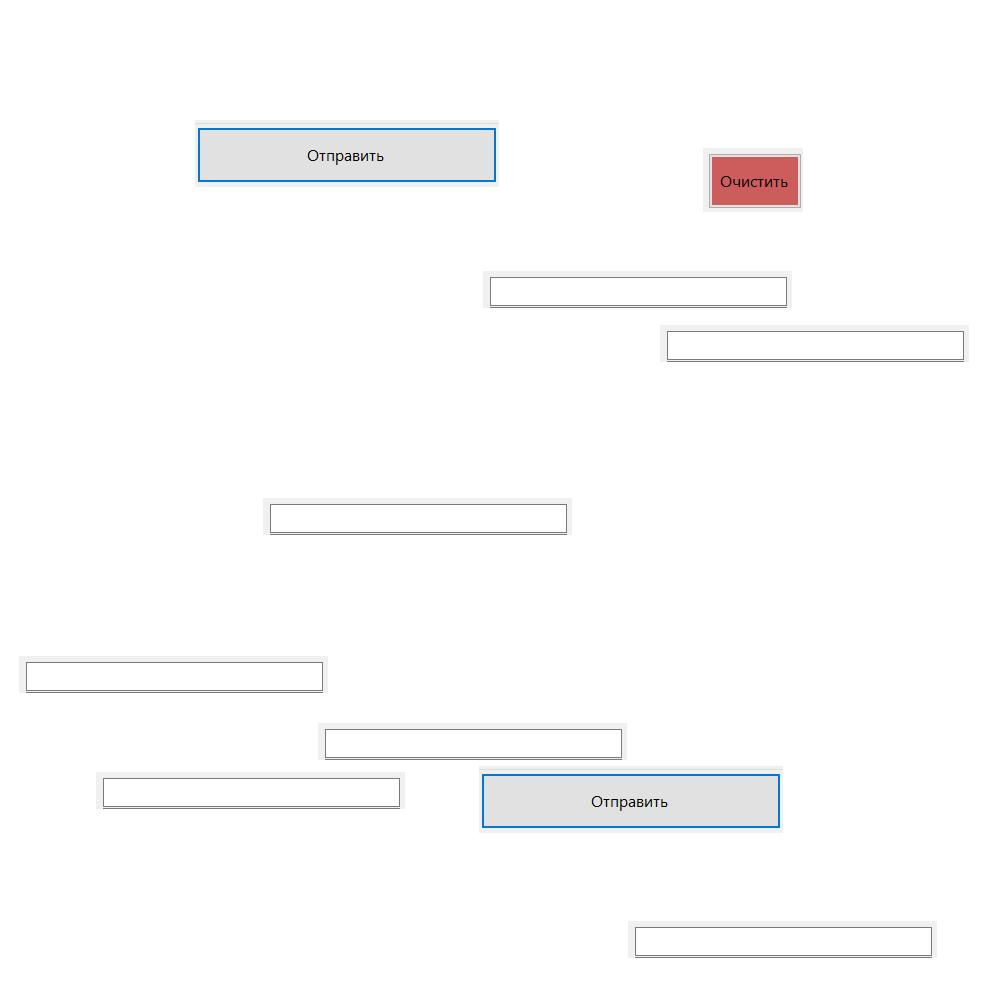Button: (479, 766, 783, 833), (195, 120, 499, 187), (703, 148, 803, 212)
EditText-: (660, 325, 969, 362), (263, 498, 572, 535), (318, 723, 627, 760), (628, 921, 937, 958), (483, 271, 792, 308), (19, 656, 328, 693), (96, 772, 405, 809)
